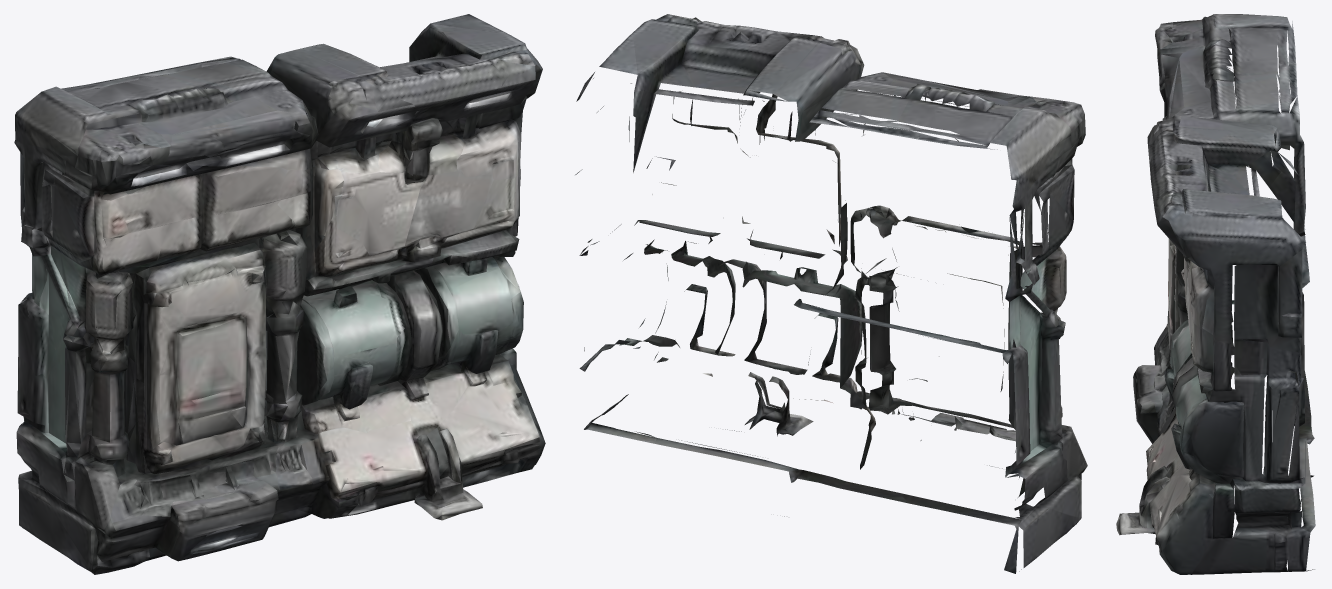
The model's file is hangar_panel_e.glb.
3 renders of one model, left to right at view 1: azimuth 30°, elevation 25°; view 2: azimuth 150°, elevation 25°; view 3: azimuth 270°, elevation 25°, orthographic. The views are drawn at different scales.
Visible parts, largest first — view 1: hangar_panel_e; view 2: hangar_panel_e; view 3: hangar_panel_e.
Boxes of the visible parts, x1,y1,x2,y2 form: hangar_panel_e: (14,14,545,574); hangar_panel_e: (575,14,1087,573); hangar_panel_e: (1116,14,1315,574).
Bounding box in the file's own units: 0.351 × 0.3182 × 0.1517.
Materials: 1 (1 with a texture image).
